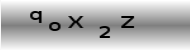2: (98, 25, 112, 40)
X: (67, 14, 84, 30)
Z: (120, 15, 136, 29)
o: (47, 20, 62, 33)
q: (29, 9, 44, 26)
